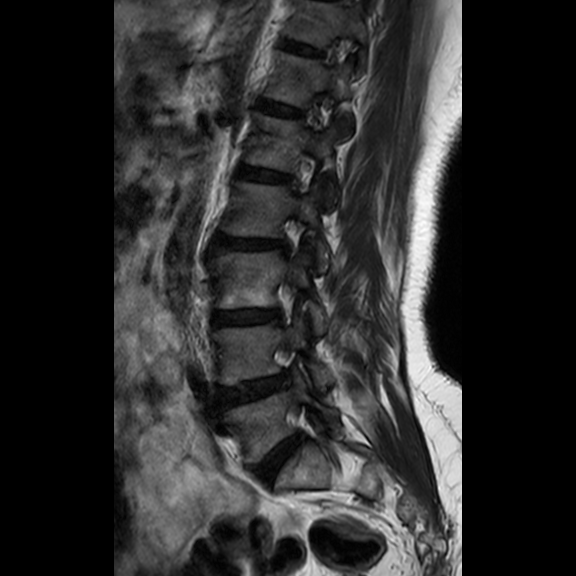LFS0: (276, 146, 322, 206), (267, 211, 314, 267), (263, 271, 302, 334)
